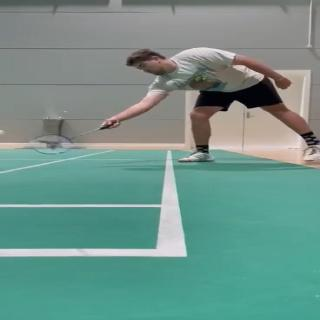Shuttle: (0, 129, 4, 136)
